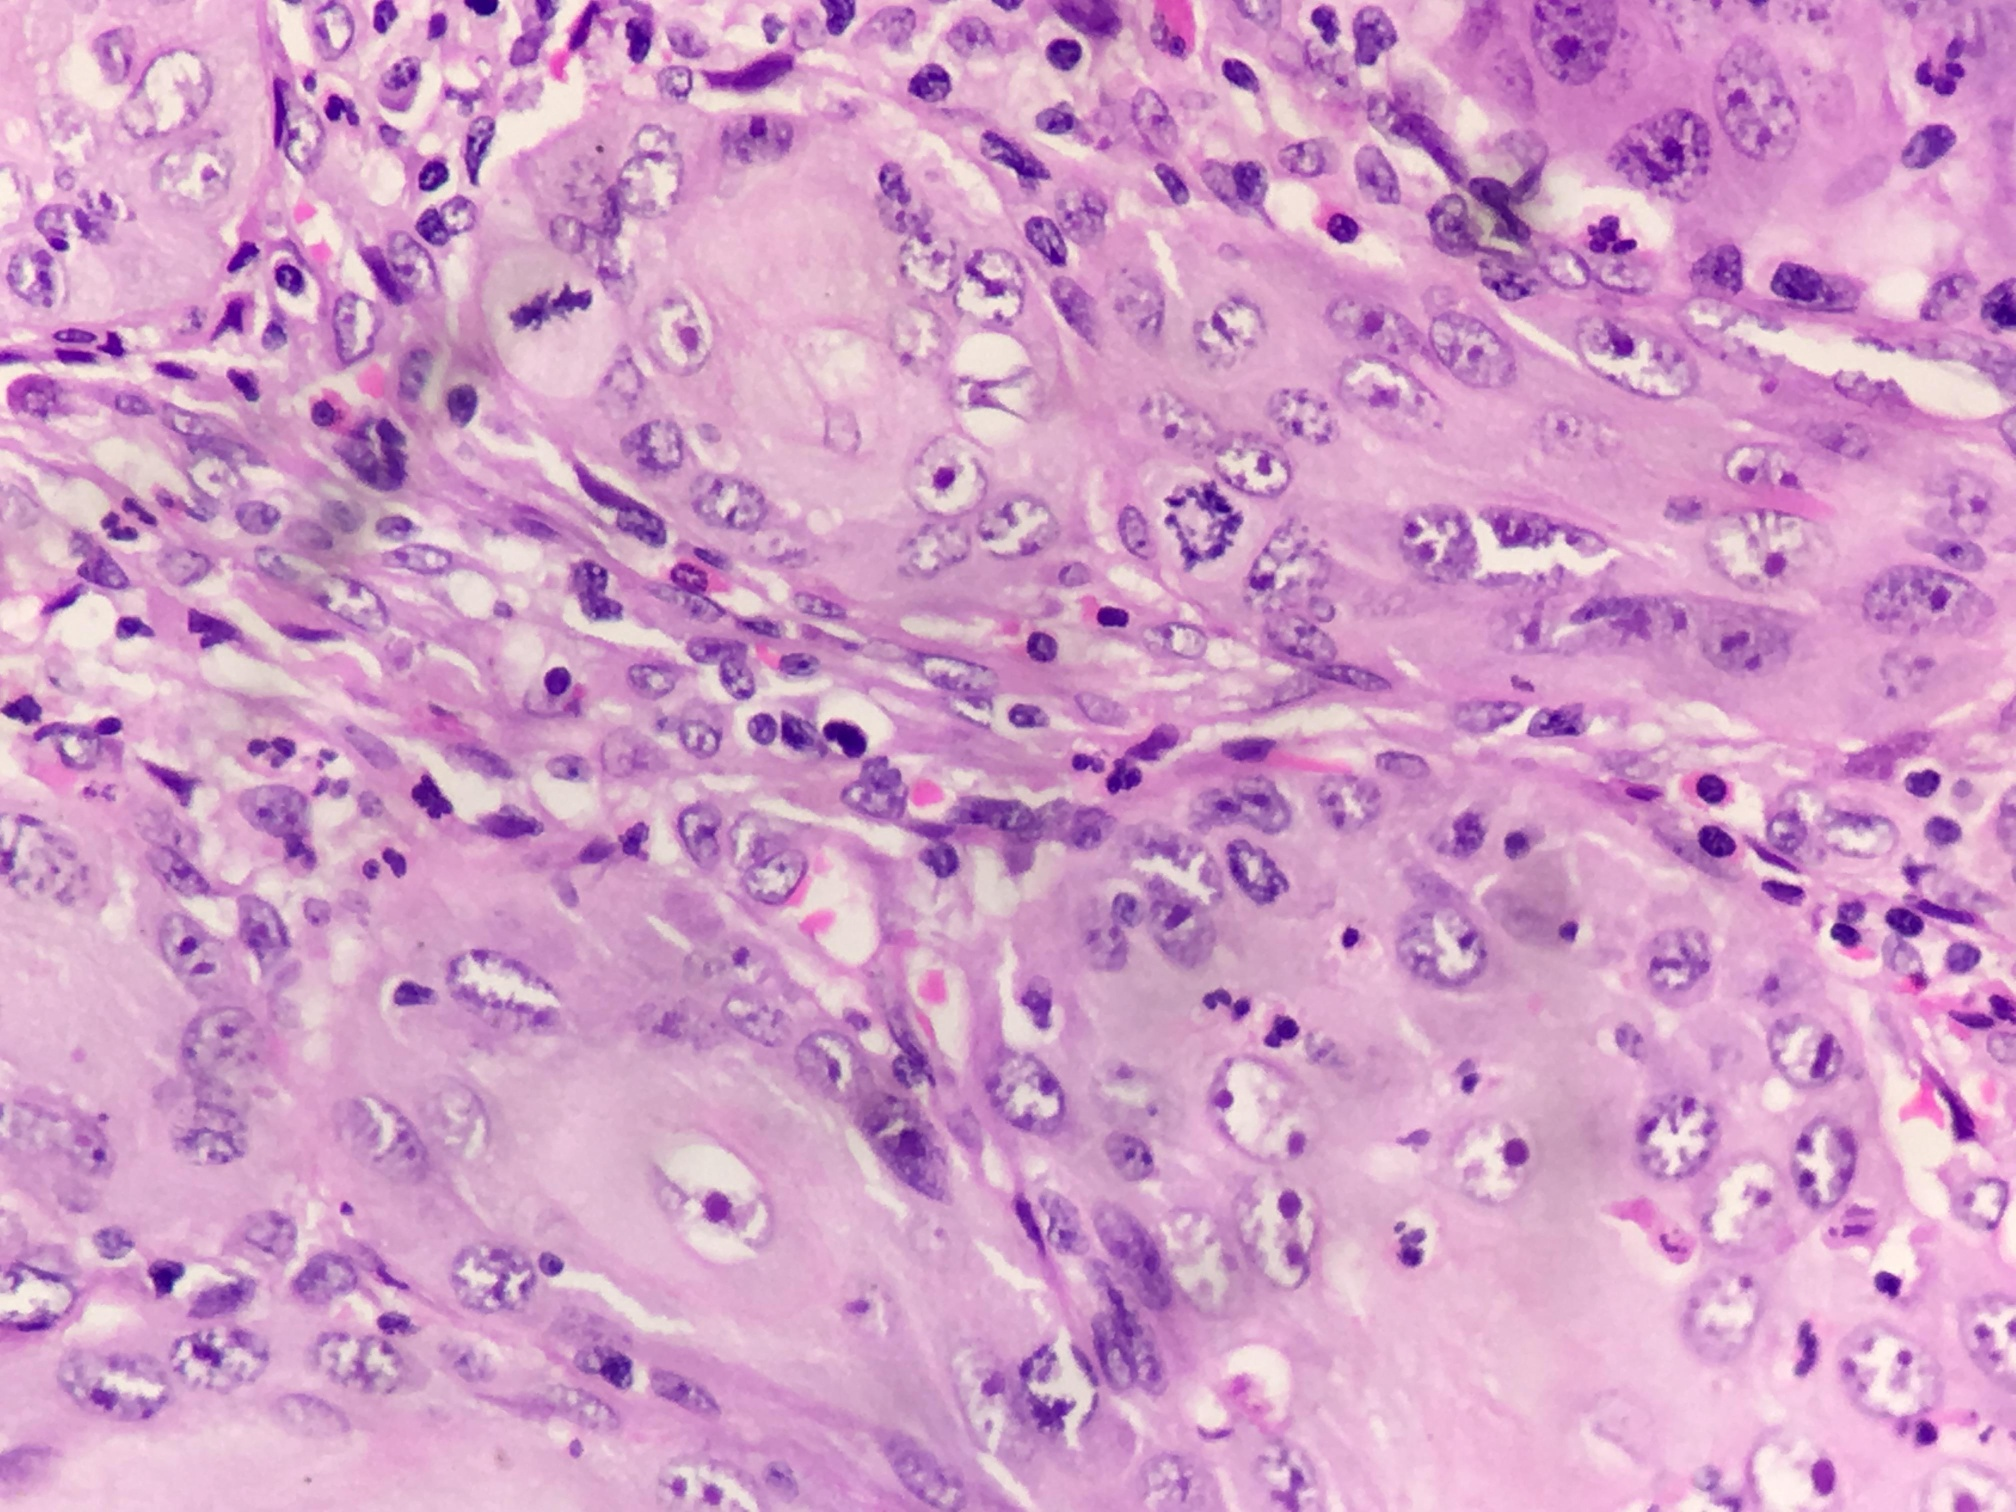mitotic: (486, 237, 622, 365), (1145, 464, 1272, 581)
